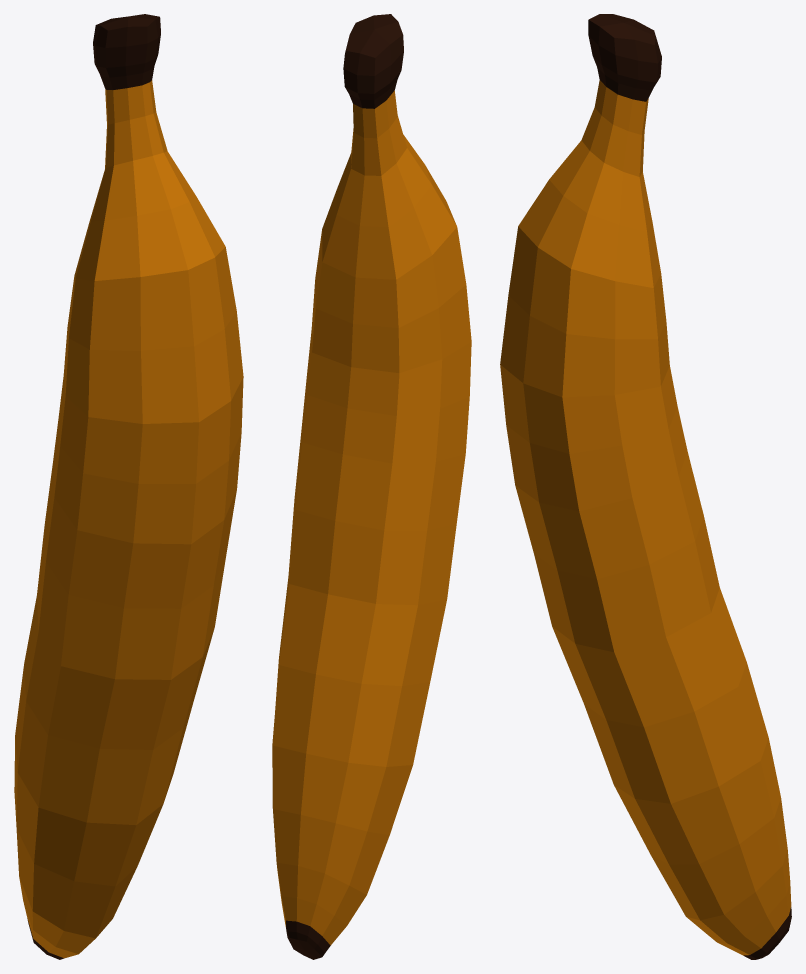
Rendered from Banana_000002.obj.
3 views of the same model, side by side, from view 1: azimuth 30°, elevation 25°; view 2: azimuth 150°, elevation 25°; view 3: azimuth 270°, elevation 25° (orthographic). The views are drawn at different scales.
Visible parts, largest first — view 1: Banana_to_export_Cylinder.001; view 2: Banana_to_export_Cylinder.001; view 3: Banana_to_export_Cylinder.001.
Part boxes in pixels (x1=…): Banana_to_export_Cylinder.001: x1=14, y1=14, x2=243, y2=959; Banana_to_export_Cylinder.001: x1=272, y1=14, x2=471, y2=959; Banana_to_export_Cylinder.001: x1=500, y1=14, x2=791, y2=959.
Size of the model in its own units: 0.1401 by 0.8249 by 0.2318.
